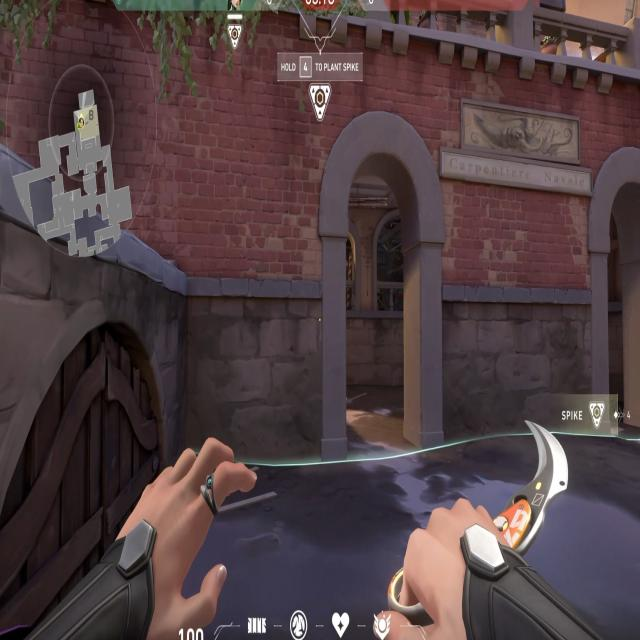A_Door: (322, 111, 449, 462)
B_Boathouse: (587, 148, 640, 436)
